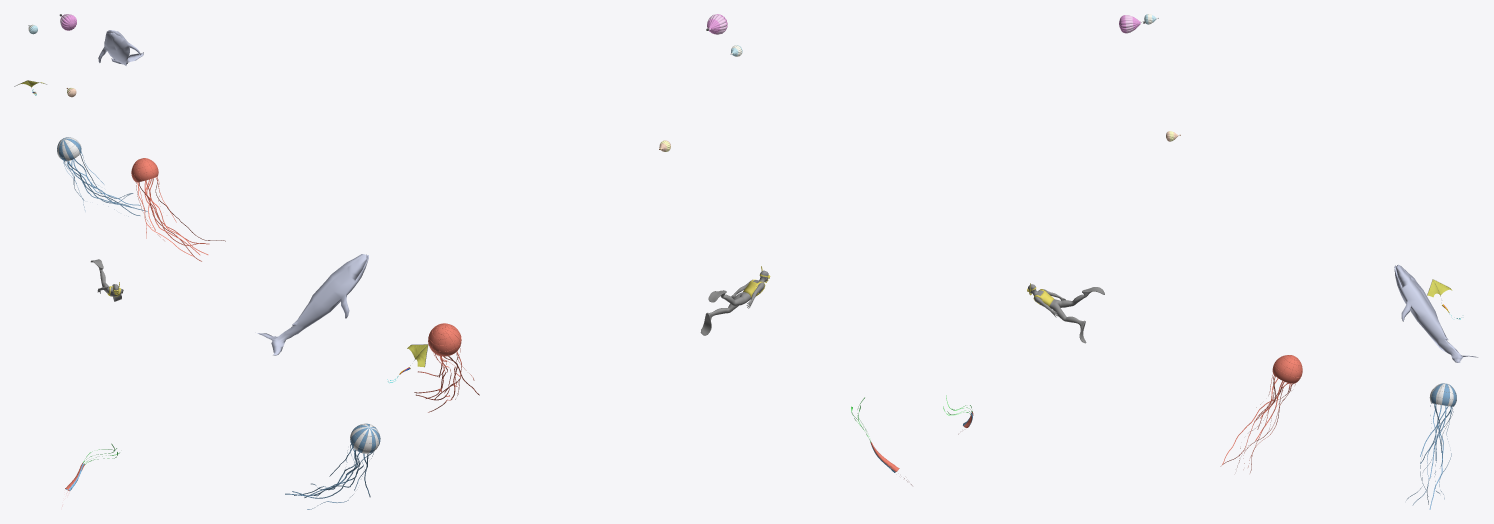
The picture shows the model from 3 angles, left to right: view 1: azimuth 30°, elevation 25°; view 2: azimuth 150°, elevation 25°; view 3: azimuth 270°, elevation 25°; orthographic projection. The views are drawn at different scales.
Visible parts, largest first — view 1: Hair_2__Copy_, Object__Copy_, Hair_1_2__Copy_, Sweep_1_2, Sweep_1, wet_suit__Copy_, hotairballon, kite_2__Copy_; view 2: Object__Copy_, wet_suit__Copy_, Sweep_1_2, Hair_1_2__Copy_, Sweep_1; view 3: Object__Copy_, wet_suit__Copy_, Hair_1_2__Copy_, Hair_2__Copy_, Sweep_1_2.
Boxes of the visible parts, left/top/right/bottom form: Hair_2__Copy_: left=136, top=177, right=225, bottom=261; Object__Copy_: left=98, top=30, right=143, bottom=65; Hair_1_2__Copy_: left=63, top=152, right=147, bottom=216; Sweep_1_2: left=131, top=158, right=158, bottom=182; Sweep_1: left=57, top=137, right=81, bottom=161; wet_suit__Copy_: left=90, top=259, right=123, bottom=301; hotairballon: left=59, top=14, right=76, bottom=97; kite_2__Copy_: left=62, top=443, right=119, bottom=506; Object__Copy_: left=255, top=254, right=368, bottom=355; wet_suit__Copy_: left=700, top=270, right=768, bottom=335; Sweep_1_2: left=428, top=323, right=461, bottom=356; Hair_1_2__Copy_: left=285, top=444, right=374, bottom=509; Sweep_1: left=350, top=423, right=380, bottom=453; Object__Copy_: left=1394, top=264, right=1478, bottom=362; wet_suit__Copy_: left=1028, top=284, right=1104, bottom=343; Hair_1_2__Copy_: left=1406, top=403, right=1453, bottom=509; Hair_2__Copy_: left=1220, top=374, right=1295, bottom=472; Sweep_1_2: left=1272, top=355, right=1302, bottom=383.
Size of the model in its own units: 83.97 by 109 by 114.
33 materials, 2 textured.
